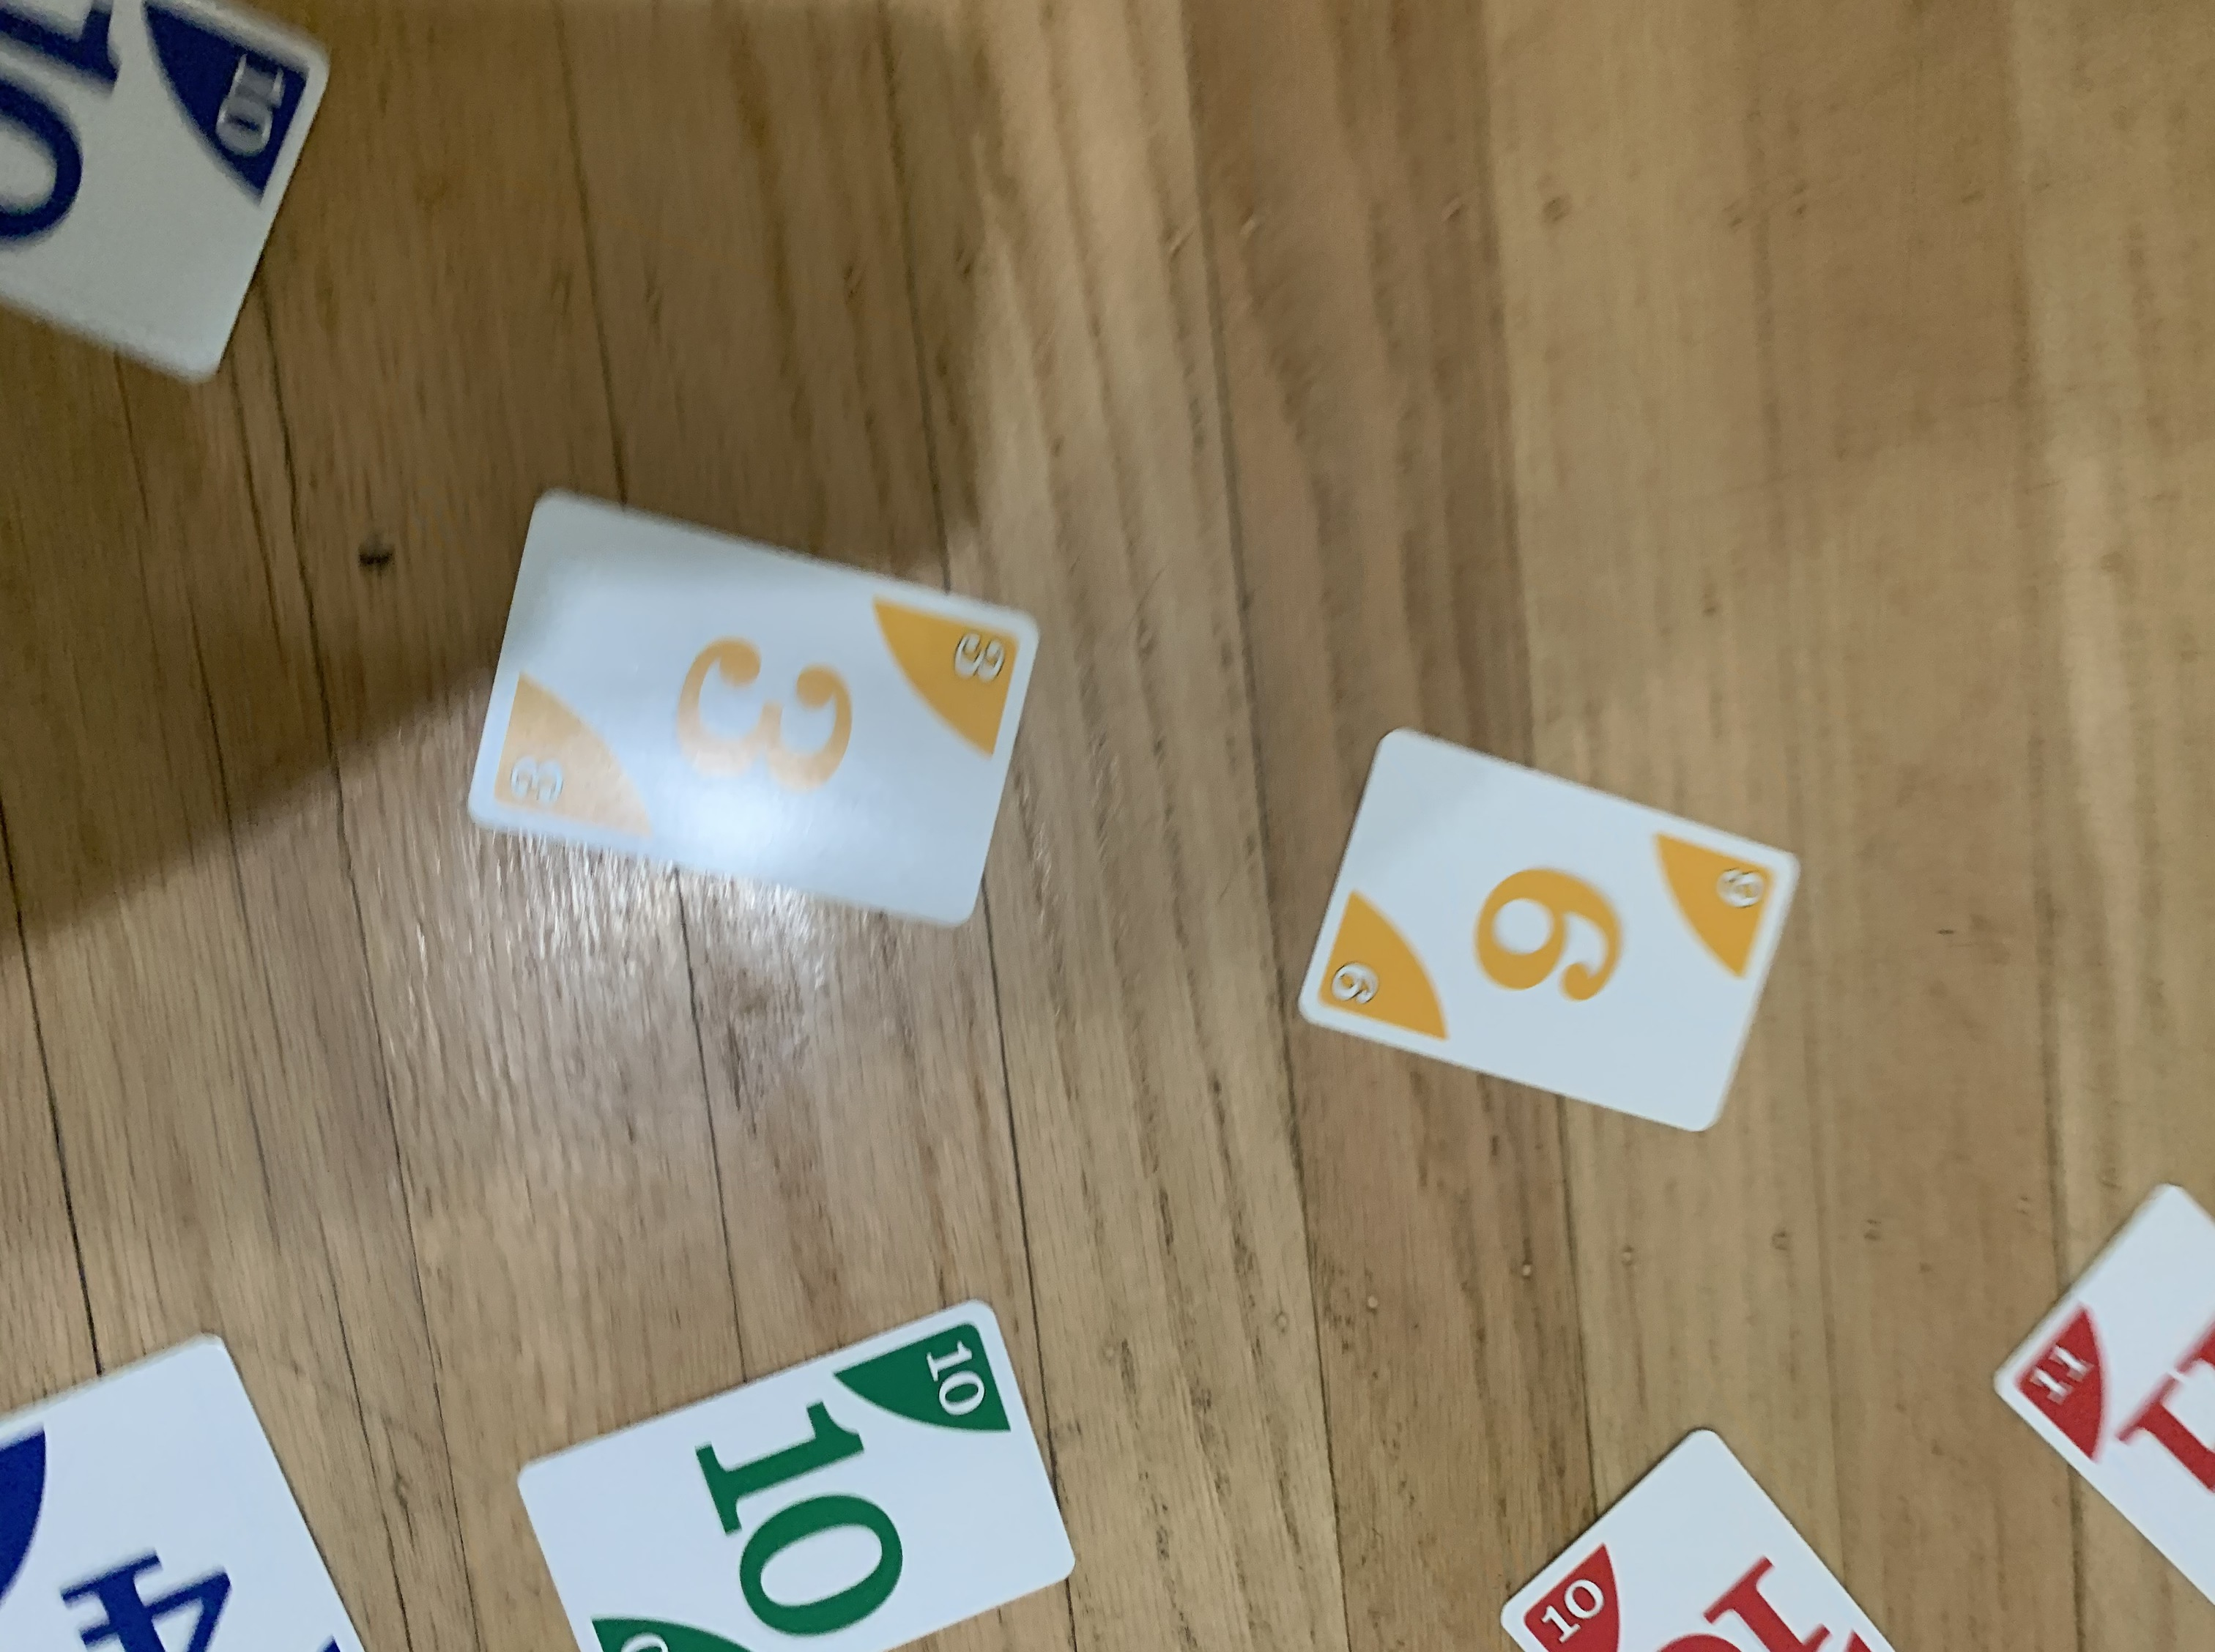six: (1274, 715, 1817, 1154)
ten: (498, 1296, 1135, 1652)
three: (453, 482, 1028, 939)
